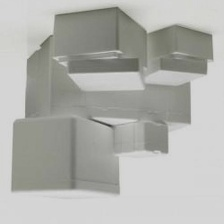foam_box: (20, 31, 196, 147), (5, 112, 123, 205), (47, 3, 152, 68), (64, 54, 146, 96), (146, 22, 216, 69), (109, 117, 171, 162), (140, 54, 210, 88)
